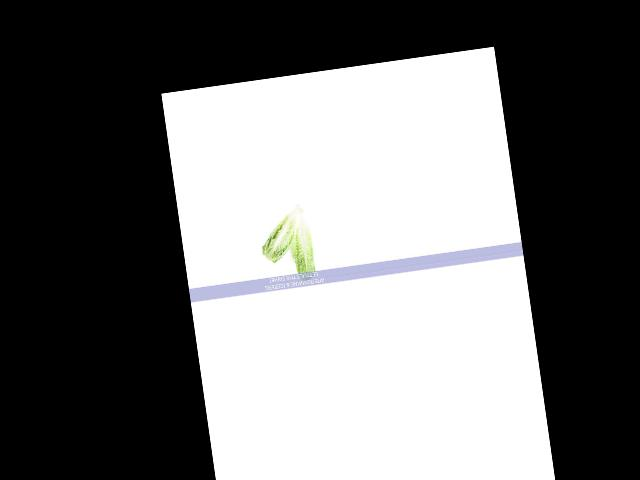lettuce: (257, 197, 309, 267)
